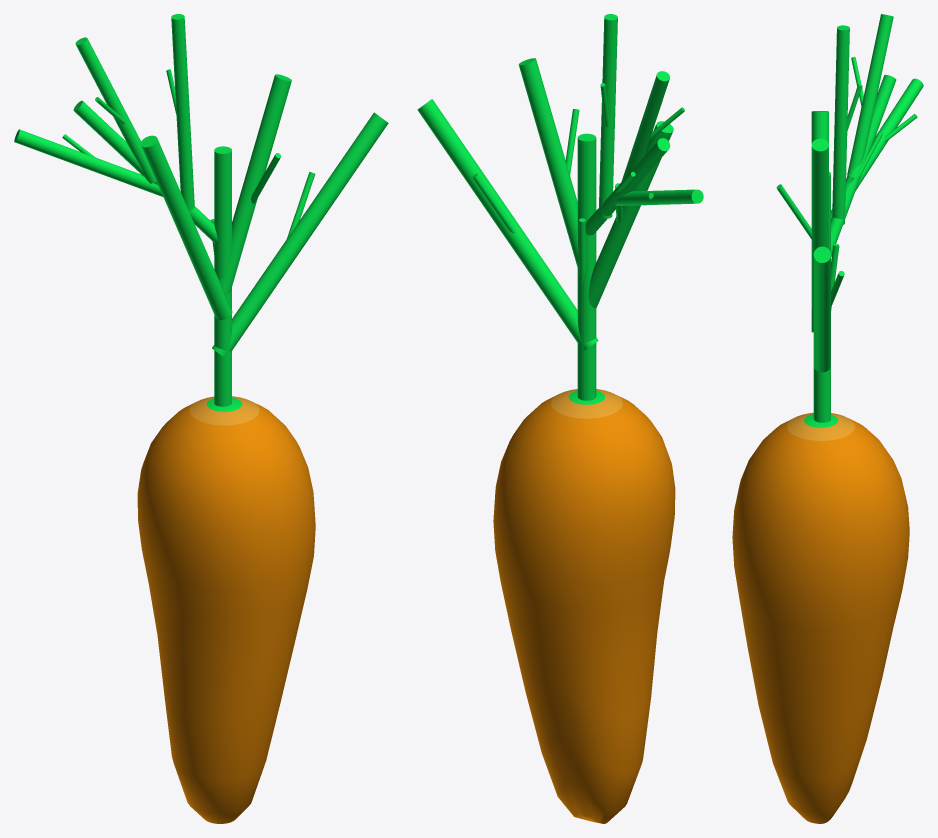
Rendered from Carrot.fbx.
3 views of the same model, side by side, from view 1: azimuth 30°, elevation 25°; view 2: azimuth 150°, elevation 25°; view 3: azimuth 270°, elevation 25° (orthographic). The views are drawn at different scales.
Visible parts, largest first — view 1: Carrot; view 2: Carrot; view 3: Carrot.
Part boxes in pixels (box(x1,y1,x2,y2)): Carrot: box(14, 14, 388, 823); Carrot: box(417, 14, 703, 823); Carrot: box(732, 14, 923, 823).
Size of the model in its own units: 0.0768 by 0.1812 by 0.0404.
